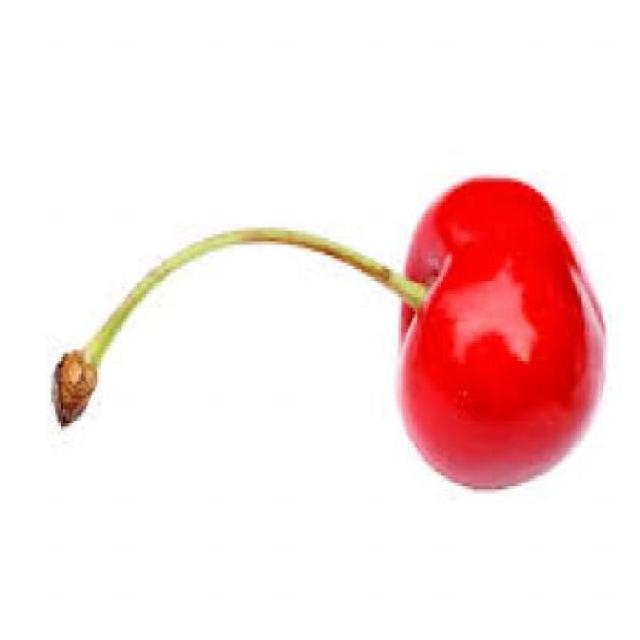BIODEGRADABLE: (55, 178, 605, 488)
